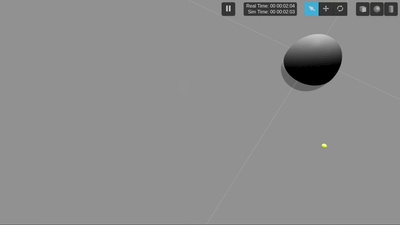mira_robot: (282, 33, 343, 92)
